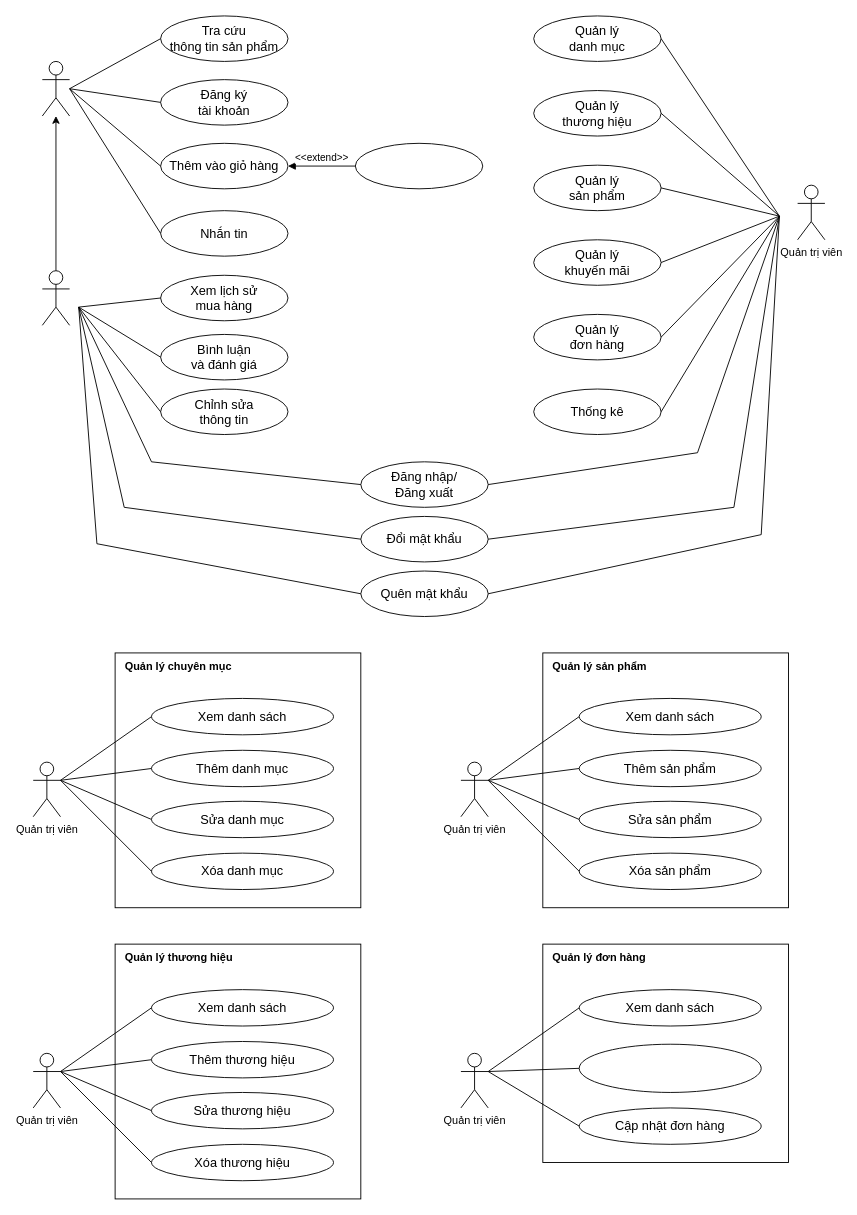
Some shapes in this 857 by 1215 pixel diagram are drawn without their labels. Here are the shapes that lost their labels. From the top down, the centre of each, then its label:
the point at 55,88: Guest
the point at 418,165: Thanh toán
the point at 55,297: Khách hàng
the point at 669,1067: Thêm đơn hàng (khi khách mua offline)
